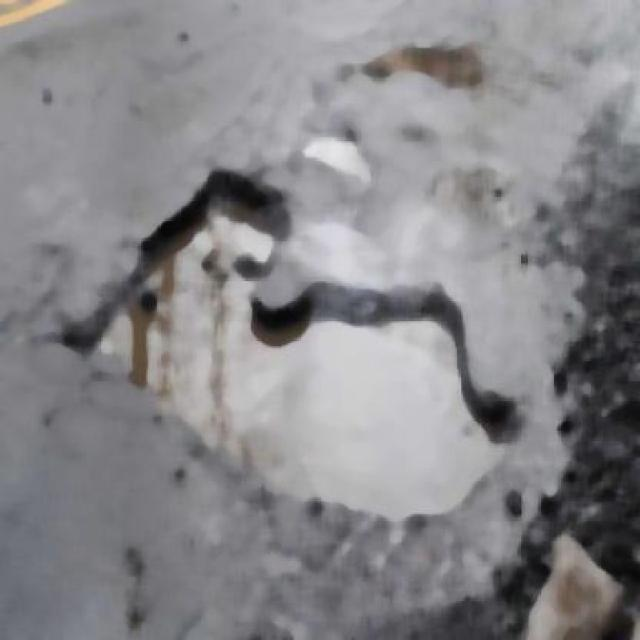Pothole: (100, 163, 515, 523)
